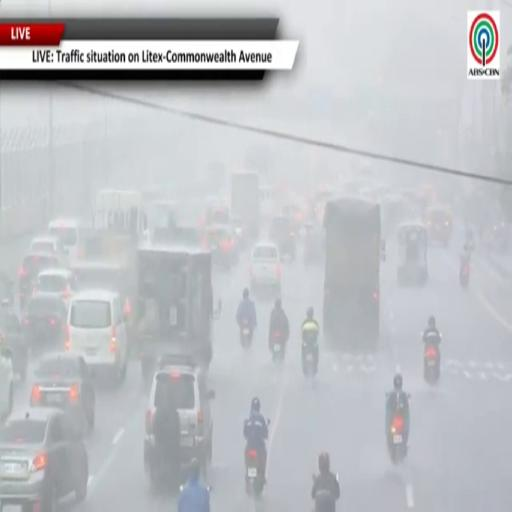car: (0, 408, 88, 511), (144, 355, 214, 481), (65, 290, 128, 382), (30, 352, 95, 435), (72, 261, 135, 316), (19, 251, 61, 309), (22, 295, 67, 347), (0, 299, 28, 381), (249, 242, 281, 293), (204, 224, 239, 268), (48, 218, 83, 262), (33, 268, 76, 303), (30, 233, 68, 265), (270, 216, 296, 260), (0, 346, 14, 421), (231, 218, 248, 248)
motorcycle: (387, 411, 407, 465), (246, 450, 264, 498), (424, 344, 440, 385), (302, 340, 317, 377), (313, 490, 336, 511), (272, 330, 286, 362), (240, 319, 252, 348), (459, 262, 470, 290)
truck: (135, 244, 220, 380), (324, 197, 385, 345), (231, 171, 260, 238)
